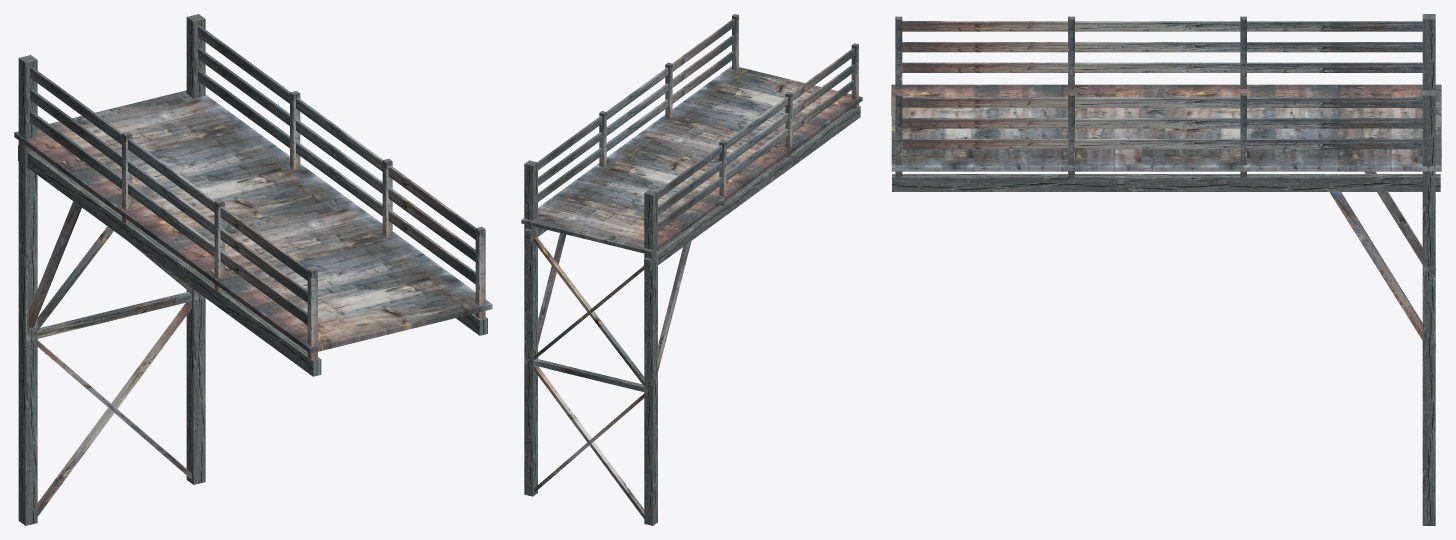
Rendered from WoodOverpass.FBX.
3 renders of one model, left to right at view 1: azimuth 30°, elevation 25°; view 2: azimuth 150°, elevation 25°; view 3: azimuth 270°, elevation 25°, orthographic. The views are drawn at different scales.
Parts seen in each view (by area): view 1: WoodOverpass; view 2: WoodOverpass; view 3: WoodOverpass.
Part boxes in pixels (x1,y1,x2,y2): WoodOverpass: (14,14,492,525); WoodOverpass: (521,14,862,525); WoodOverpass: (891,14,1441,525).
Bounding box in the file's own units: 30 × 72.77 × 84.3.
